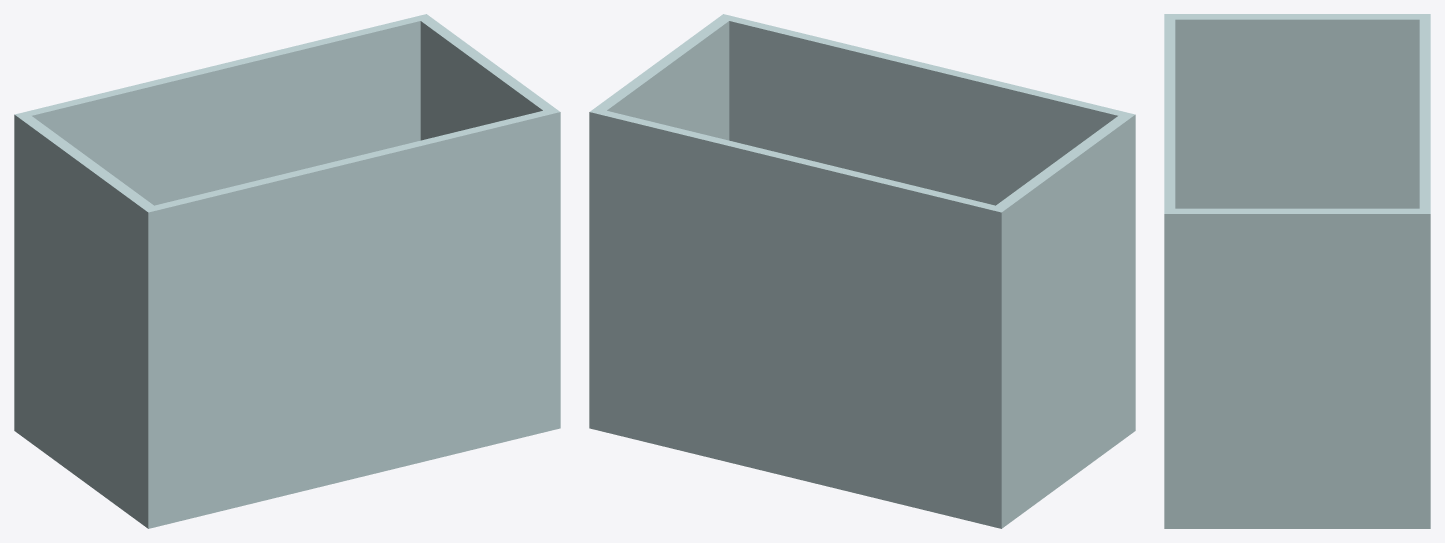
The model's file is soft balls.fbx.
3 views of the same model, side by side, from view 1: azimuth 30°, elevation 25°; view 2: azimuth 150°, elevation 25°; view 3: azimuth 270°, elevation 25° (orthographic).
Parts seen in each view (by area): view 1: pCube1; view 2: pCube1; view 3: pCube1.
Boxes of the visible parts, <box> form: pCube1: <box>14,14,560,528</box>; pCube1: <box>589,14,1135,528</box>; pCube1: <box>1164,14,1430,528</box>.
Bounding box in the file's own units: 0.1692 × 0.1241 × 0.0952.
